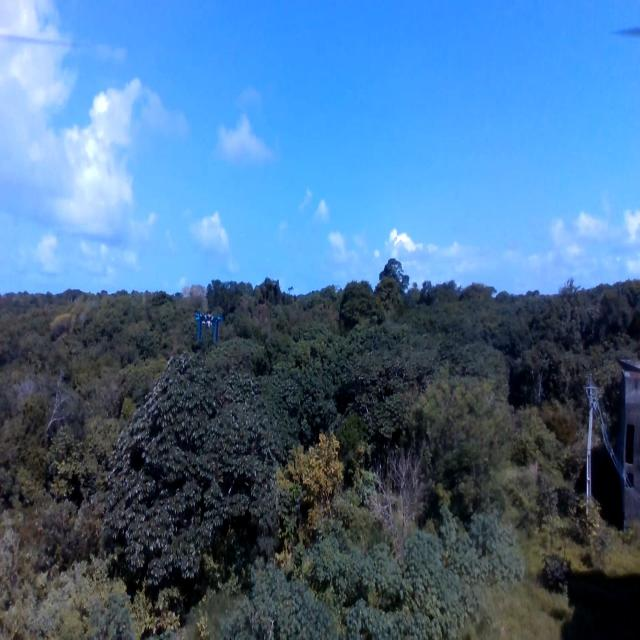-uav-: (192, 300, 224, 350)
